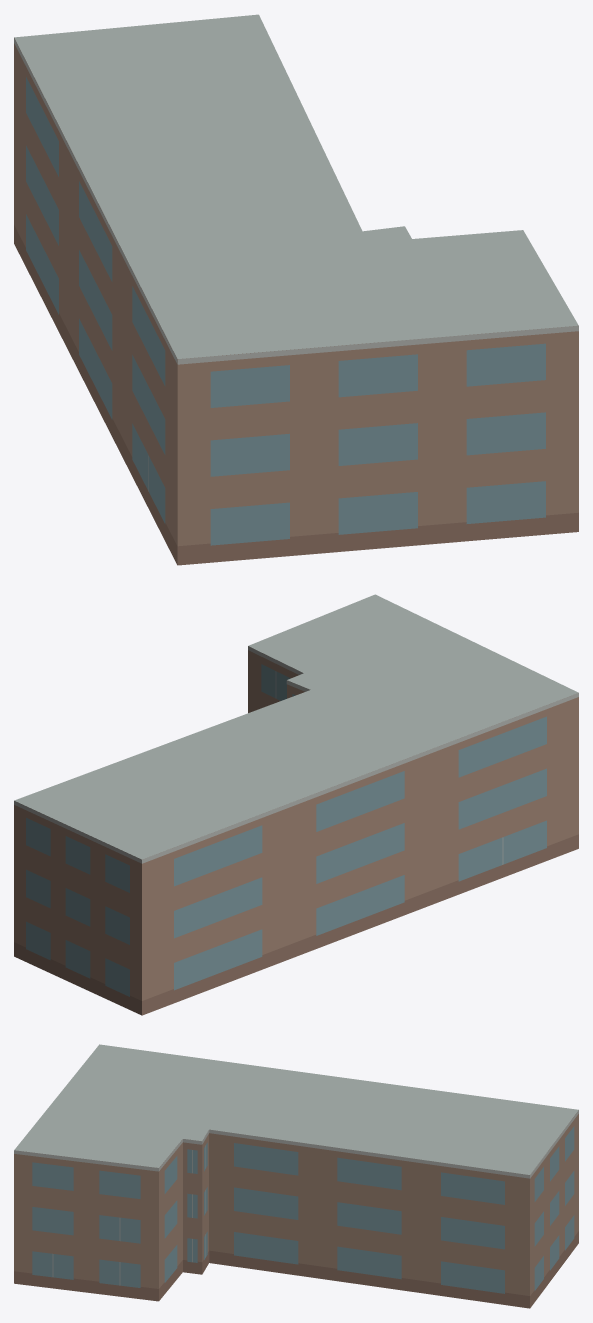
Rendered from survey-upis-32705886.glb.
3 views of the same model, one above another, from view 1: azimuth 30°, elevation 25°; view 2: azimuth 150°, elevation 25°; view 3: azimuth 270°, elevation 25° (orthographic). The views are drawn at different scales.
Visible parts, largest first — view 1: survey-upis-32705886.tmp; view 2: survey-upis-32705886.tmp; view 3: survey-upis-32705886.tmp.
Part boxes in pixels (x1,y1,x2,y2): survey-upis-32705886.tmp: (14,14,578,565); survey-upis-32705886.tmp: (14,594,578,1015); survey-upis-32705886.tmp: (14,1044,578,1308).
Bounding box in the file's own units: 19.24 × 9.15 × 35.12.
